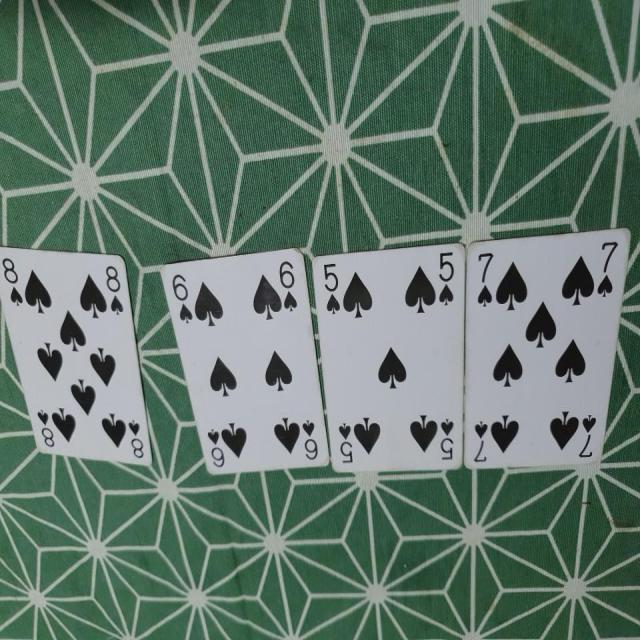5 of spades: (312, 234, 464, 478)
6 of spades: (154, 244, 330, 486)
7 of spades: (461, 230, 638, 470)
8 of spades: (5, 246, 153, 466)
